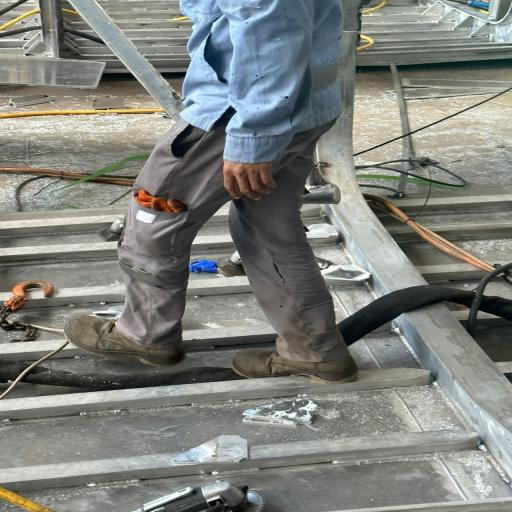safety_shoe: (60, 304, 192, 375), (231, 340, 363, 392)
